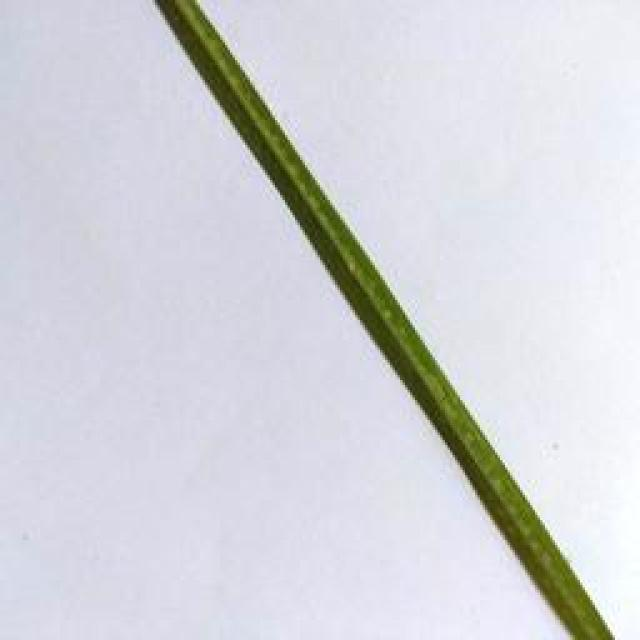Healthy-Plant: (153, 0, 611, 640)
